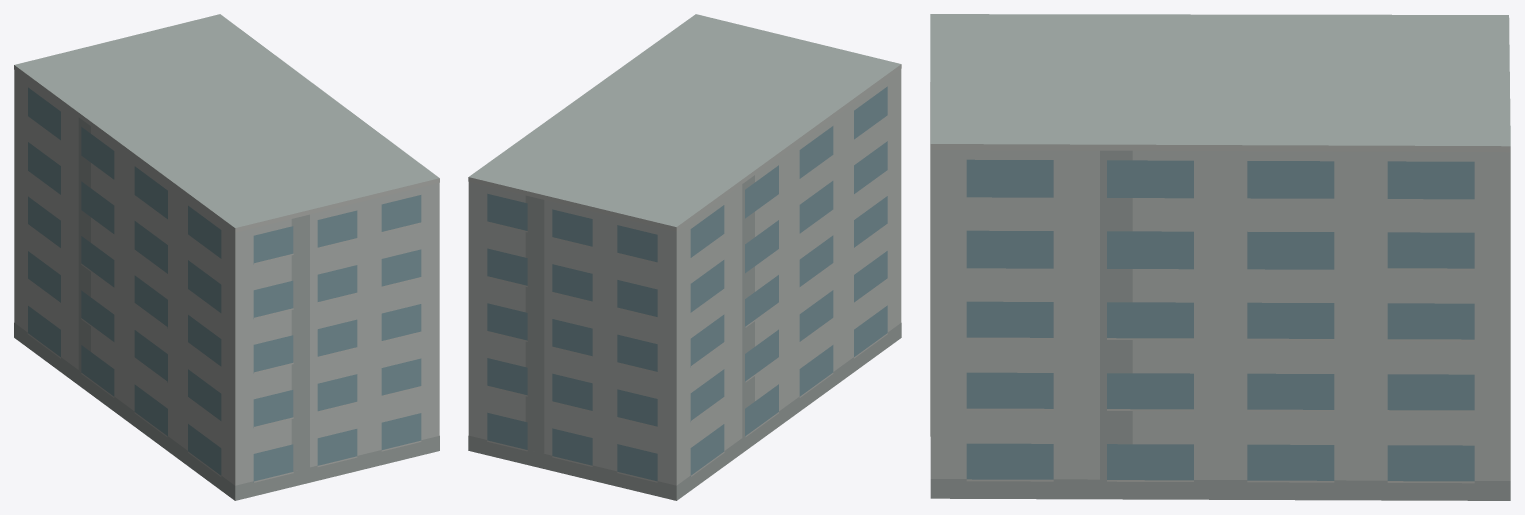
File: survey-upis-32821295.glb
3 views of the same model, side by side, from view 1: azimuth 30°, elevation 25°; view 2: azimuth 150°, elevation 25°; view 3: azimuth 270°, elevation 25° (orthographic). The views are drawn at different scales.
Parts seen in each view (by area): view 1: survey-upis-32821295.tmp; view 2: survey-upis-32821295.tmp; view 3: survey-upis-32821295.tmp.
Part boxes in pixels (x1=…): survey-upis-32821295.tmp: x1=14, y1=14, x2=439, y2=500; survey-upis-32821295.tmp: x1=468, y1=14, x2=901, y2=500; survey-upis-32821295.tmp: x1=930, y1=14, x2=1510, y2=500.
Bounding box in the file's own units: 11.52 × 14.4 × 21.37.
